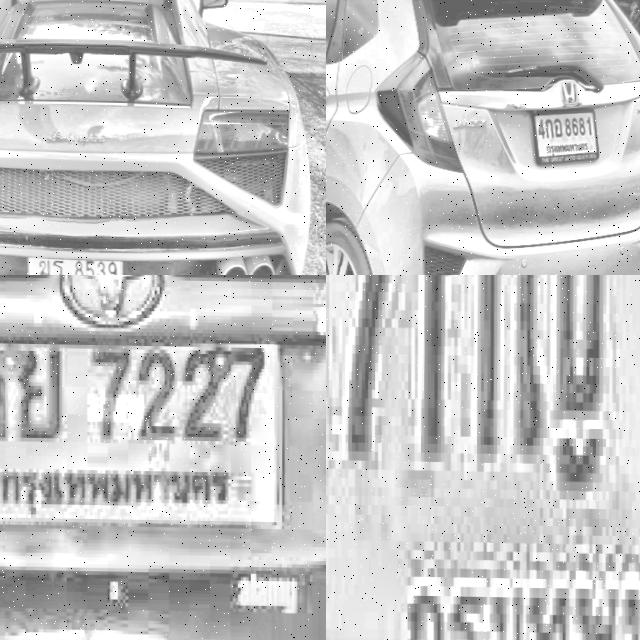license-plate: (326, 275, 640, 640), (0, 314, 309, 561), (530, 104, 602, 168), (24, 255, 123, 275)
